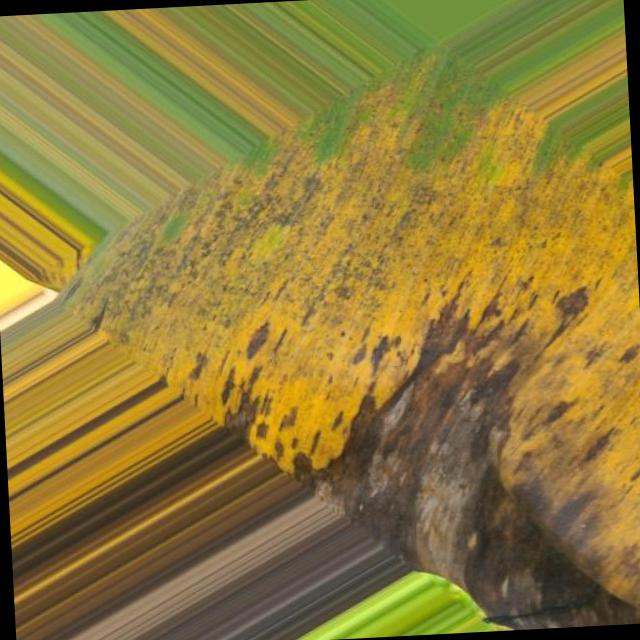Banana_Black_Sigatoka: (296, 324, 640, 639), (74, 161, 448, 344)
